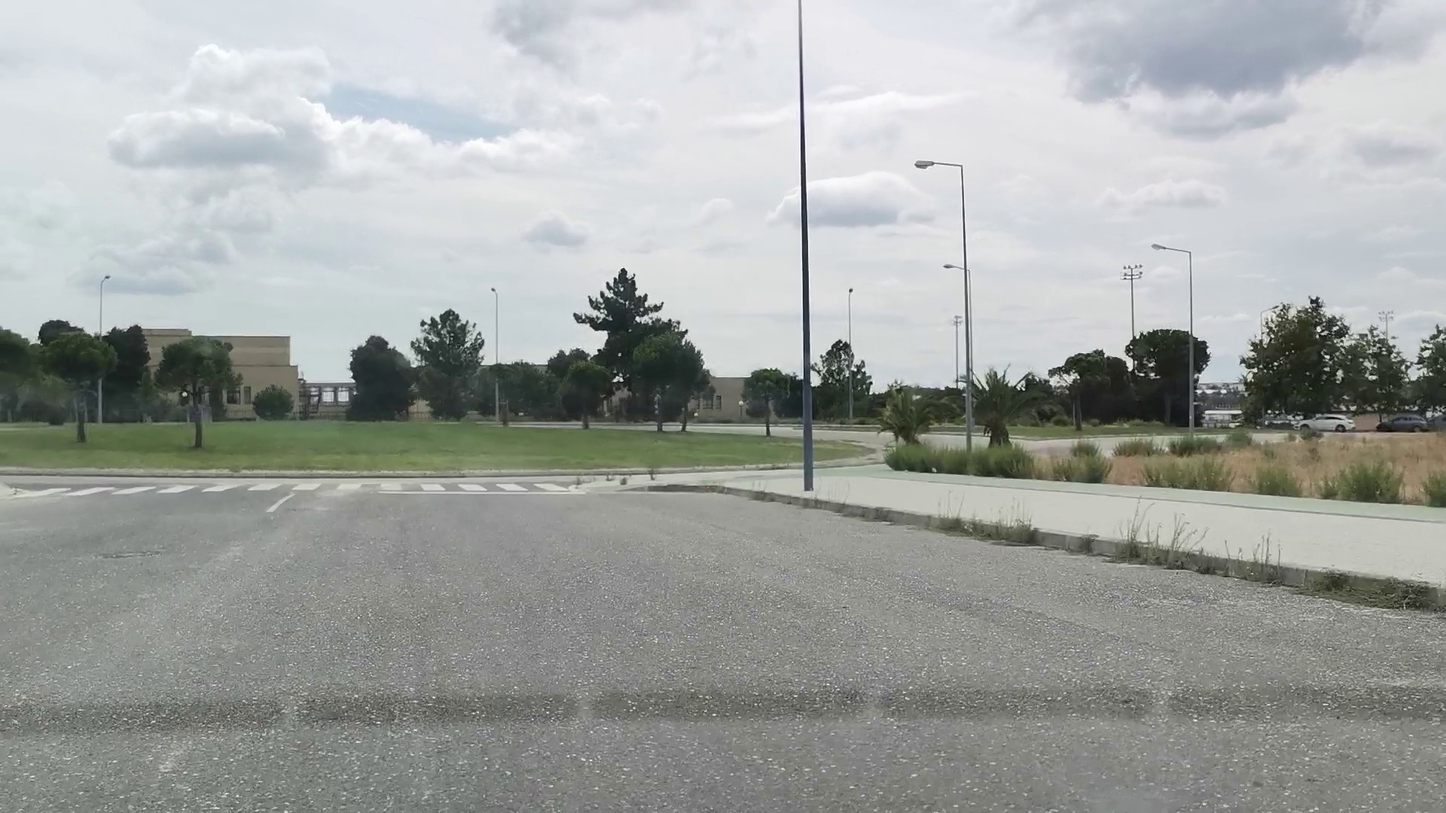Stairs: (14, 482, 567, 497)
